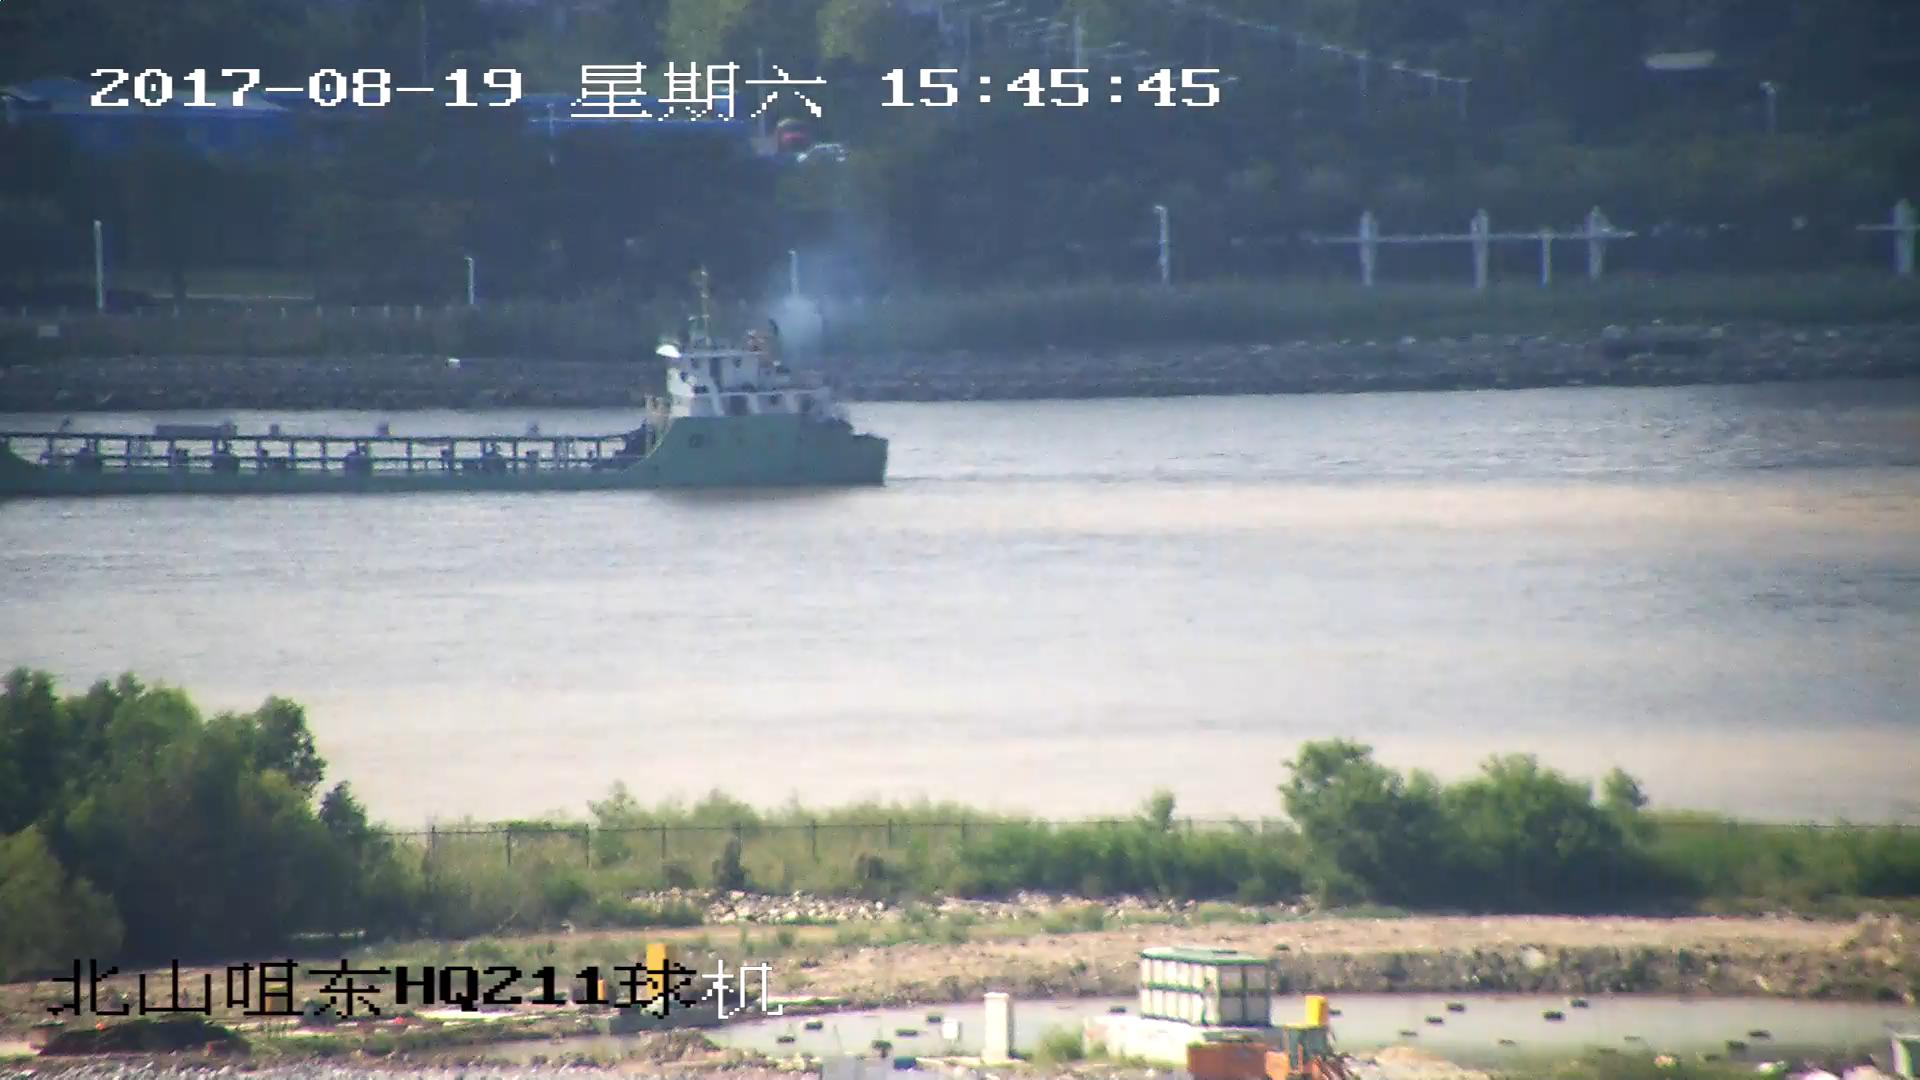general cargo ship: (1, 302, 893, 492)
